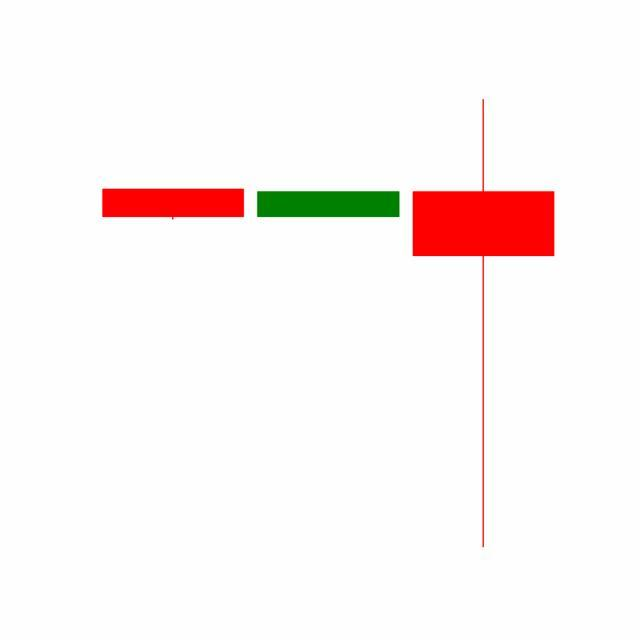Marubozu: (250, 191, 407, 217)
